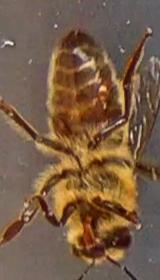varroa_mite: (87, 74, 118, 115), (46, 112, 76, 142)
